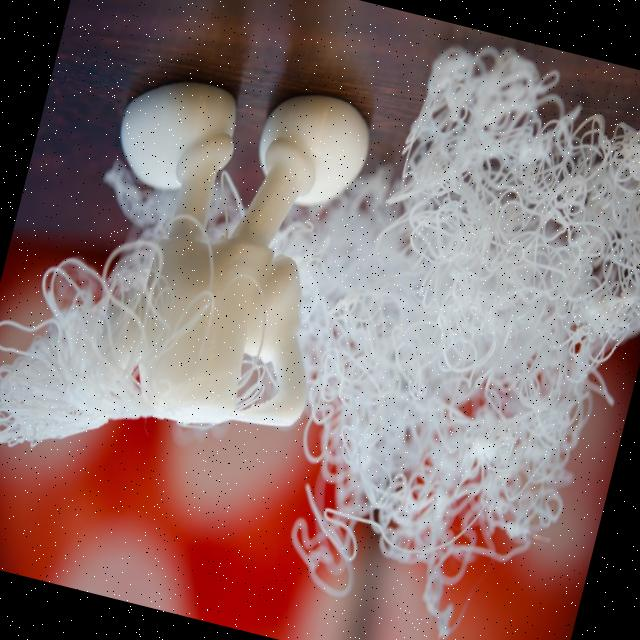spaghetti: (226, 3, 640, 640), (0, 196, 188, 477)
